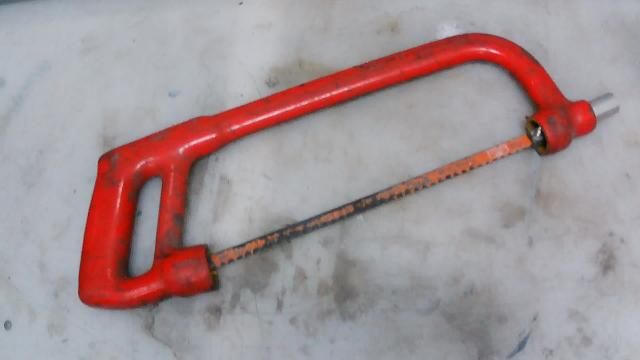gergaji_besi: (72, 21, 623, 325)
